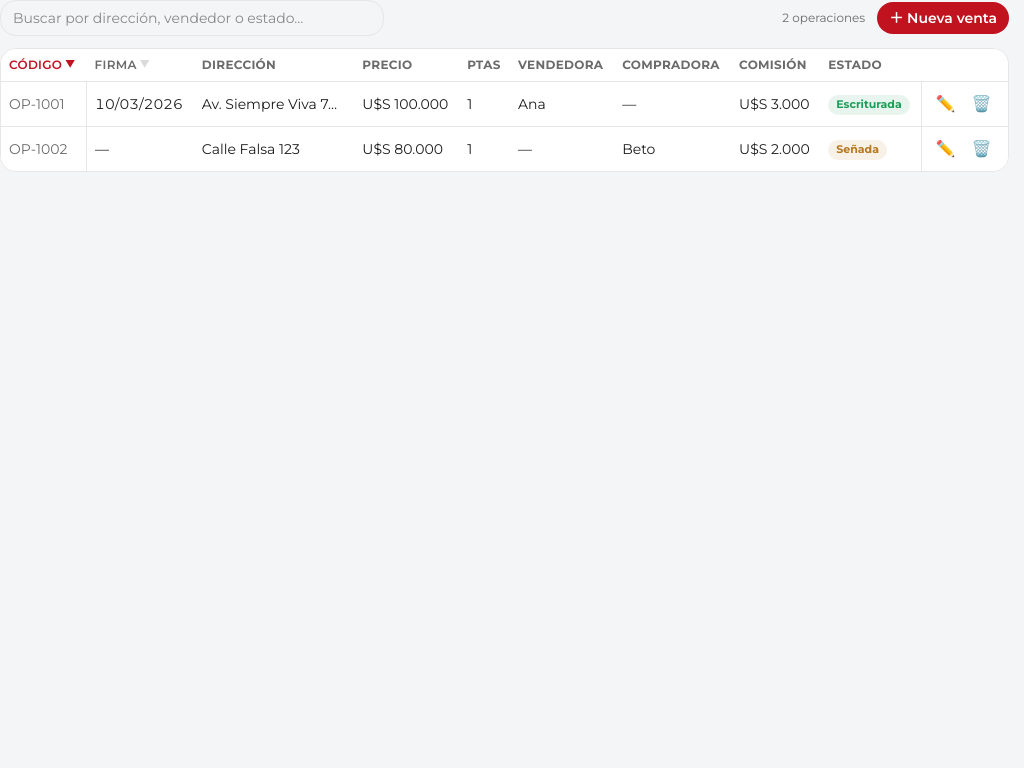
Test case: OperacionesTable › antes de borrar muestra qué operación es, para no equivocarse
The width and height of the screenshot is (1024, 768).
Click the button named "Borrar": point(982, 104) [966,90,998,118]
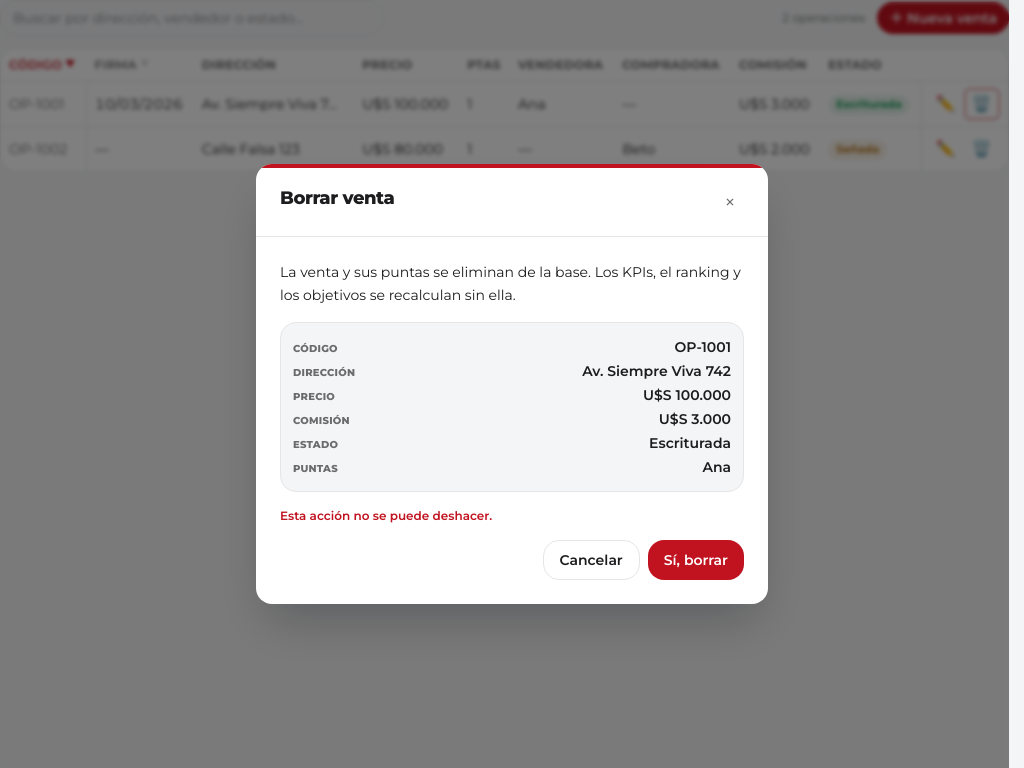
Expected: the heading "Borrar venta" is shown, [280,184,394,212]
Expected: the text "OP-1001" is shown, [674,337,731,357]
Expected: the text "Av. Siempre Viva 742" is shown, [582,361,731,381]
